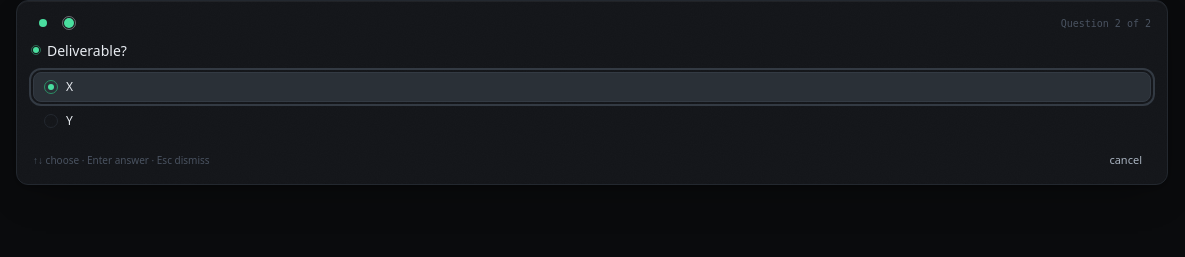
Test: composer answer path (issue #421) › answers a single select with the draft verbatim and records the series entry
What coordinates should you click on to do the following:
click the button named "question 1 of 2, answered"
I would click on:
 (43, 23)
Its box is [33, 13, 53, 33].
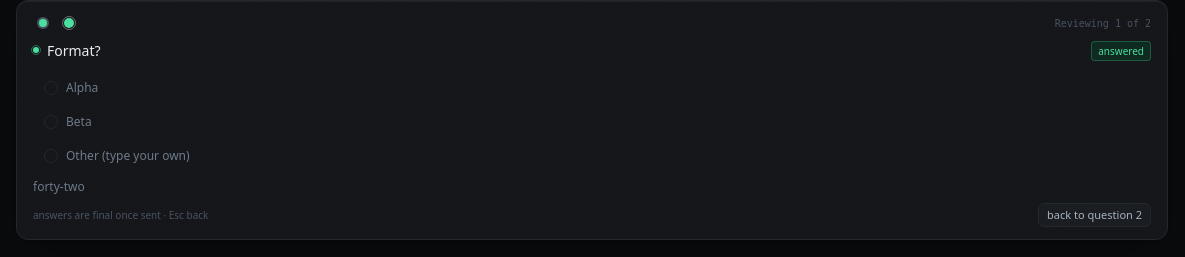
Expected: the text "forty-two" is shown, [33, 178, 85, 195]
